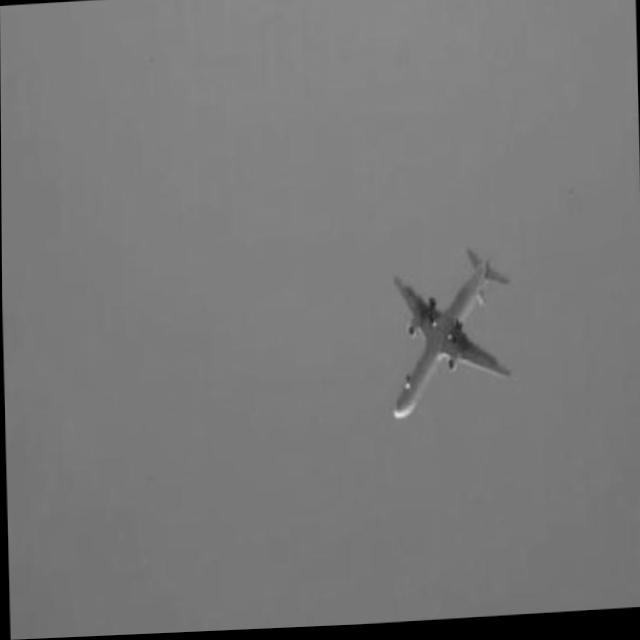aeroplane: (386, 250, 514, 422)
